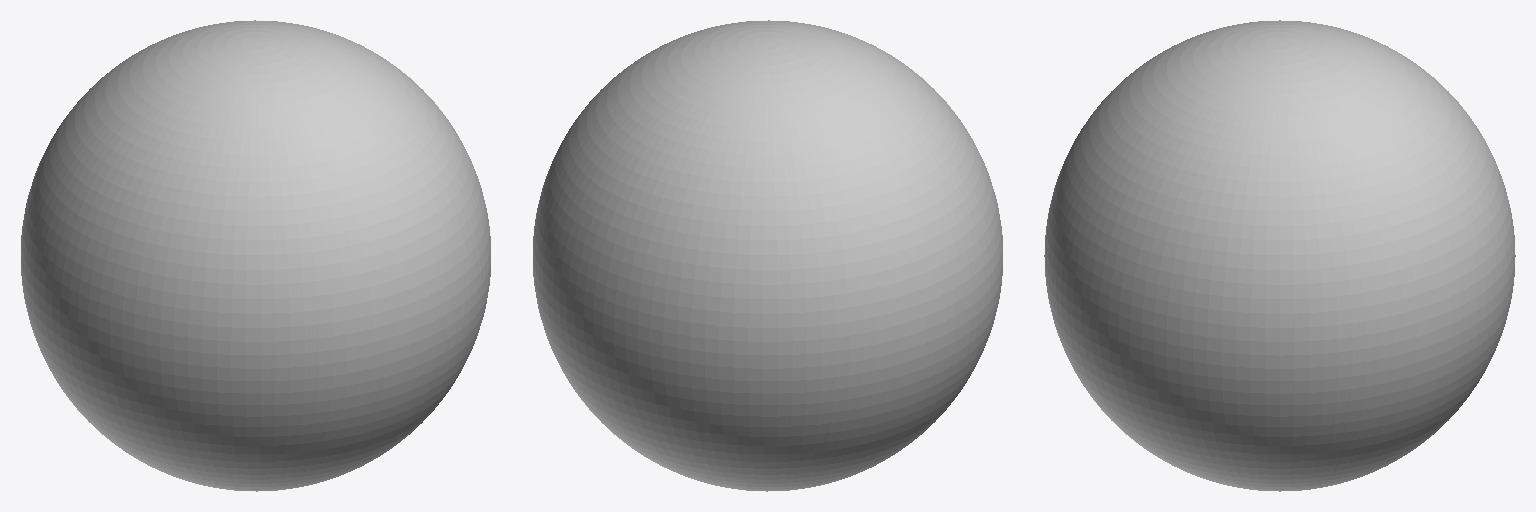
Rendered from moon.obj.
3 renders of one model, left to right at view 1: azimuth 30°, elevation 25°; view 2: azimuth 150°, elevation 25°; view 3: azimuth 270°, elevation 25°, orthographic.
Visible parts, largest first — view 1: Moon; view 2: Moon; view 3: Moon.
Boxes of the visible parts, x1=… form: Moon: x1=21, y1=20, x2=490, y2=491; Moon: x1=533, y1=20, x2=1002, y2=491; Moon: x1=1044, y1=20, x2=1515, y2=491.
Bounding box in the file's own units: 0.04 × 0.04 × 0.04.